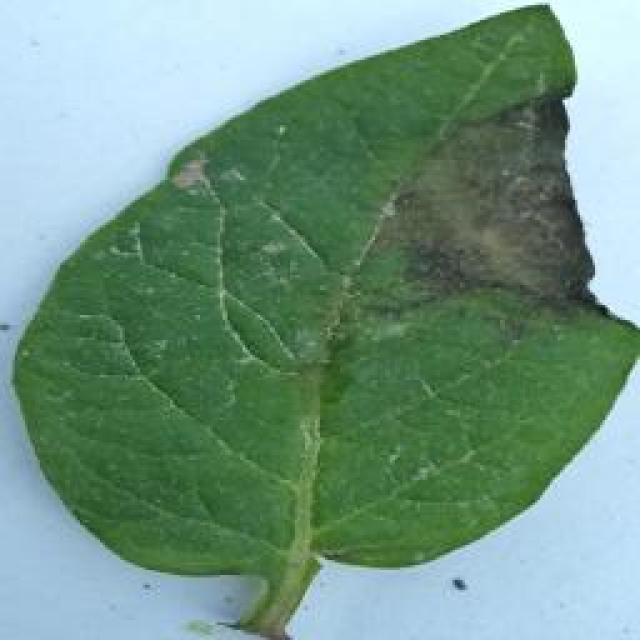Potato_Late_Blight: (12, 5, 626, 630)
